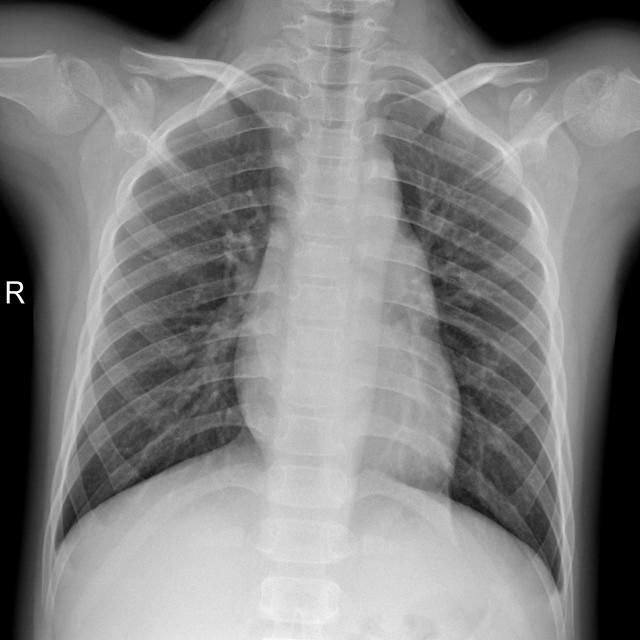no-pneumonia: (371, 52, 572, 590), (59, 77, 275, 540)
